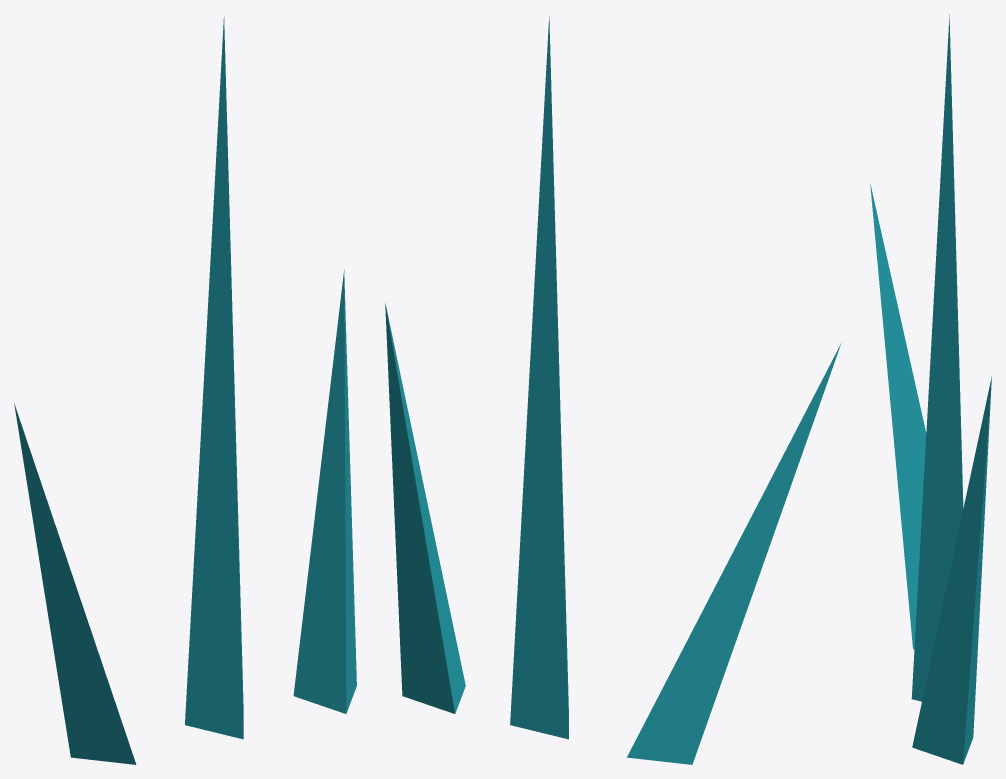
The model's file is world_3_grass_2.dae.
3 renders of one model, left to right at view 1: azimuth 30°, elevation 25°; view 2: azimuth 150°, elevation 25°; view 3: azimuth 270°, elevation 25°, orthographic. The views are drawn at different scales.
Parts seen in each view (by area): view 1: grass_2; view 2: grass_2; view 3: grass_2.
Boxes of the visible parts, bbox=[...] form: grass_2: bbox=[14, 17, 356, 764]; grass_2: bbox=[385, 17, 841, 764]; grass_2: bbox=[870, 14, 991, 764].
Bounding box in the file's own units: 0.2895 × 0.0806 × 0.5.
